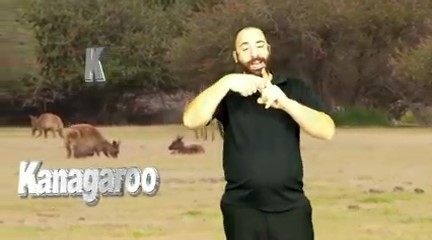K: (218, 67, 288, 119)
